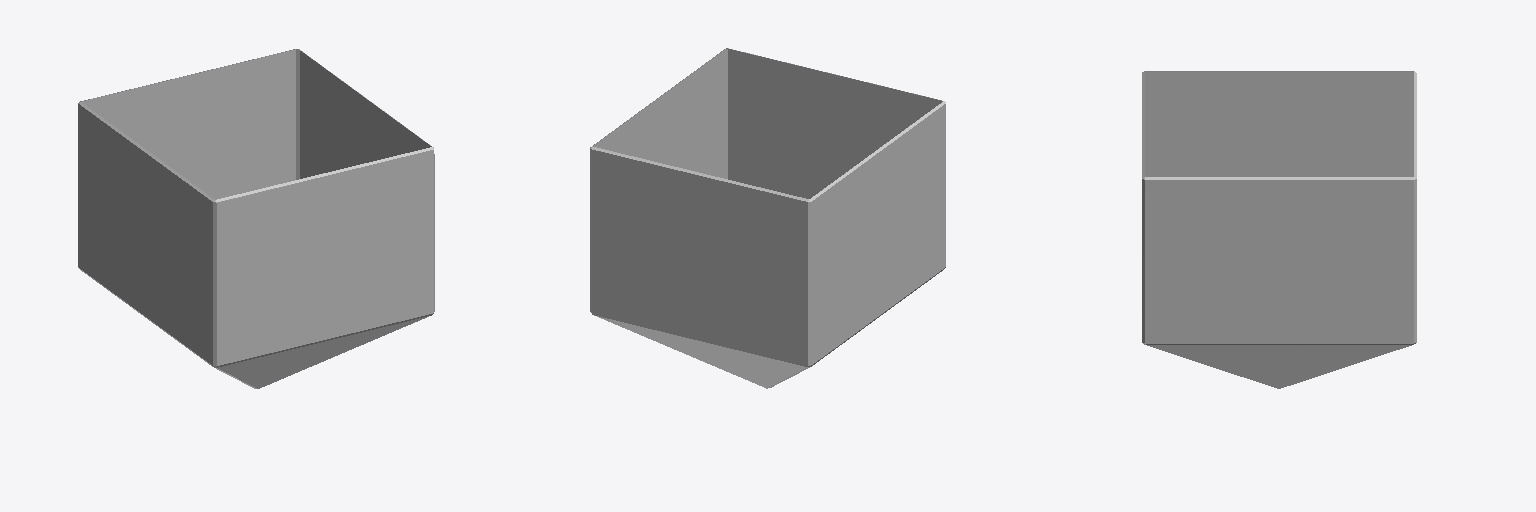
Rendered from studentcenter.obj.
The picture shows the model from 3 angles: view 1: azimuth 30°, elevation 25°; view 2: azimuth 150°, elevation 25°; view 3: azimuth 270°, elevation 25°; orthographic projection.
Bounding box in the file's own units: 2.23 × 2.54 × 2.4.